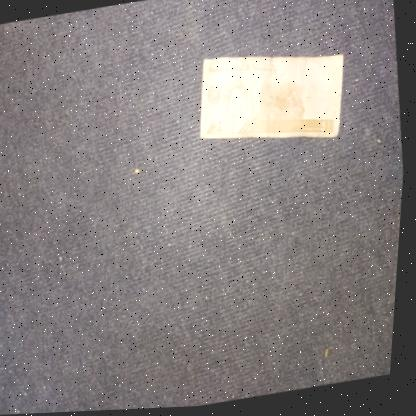vef_back: (190, 38, 354, 161)
